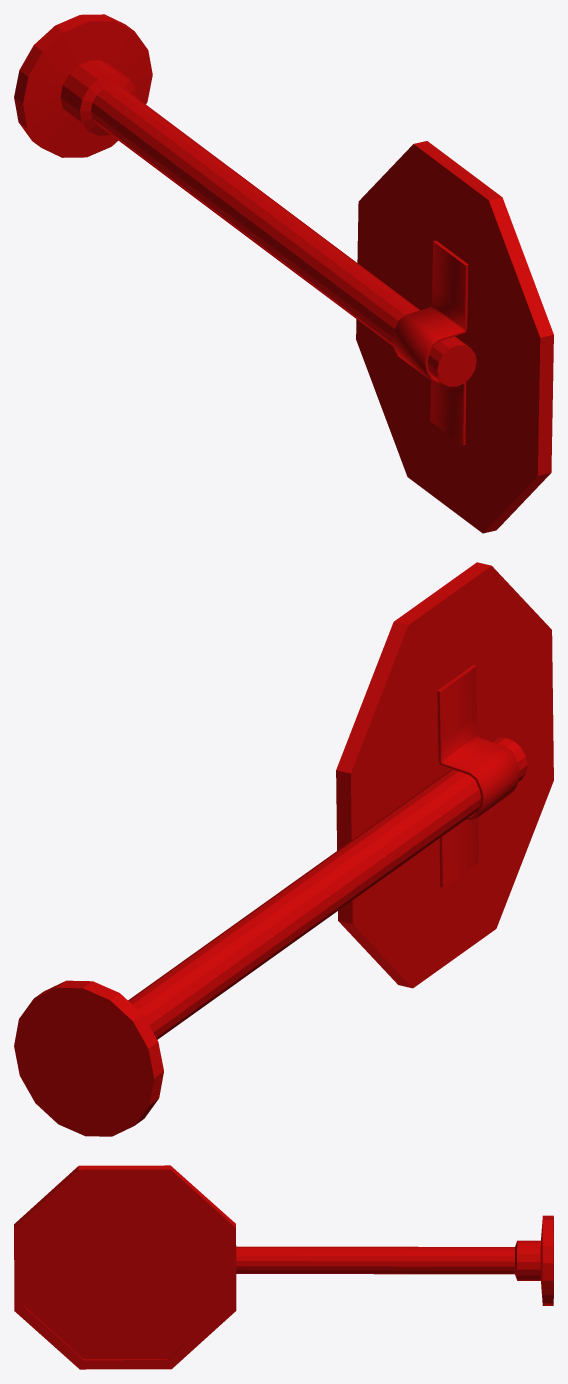
Rendered from dur_levhasi.obj.
The picture shows the model from 3 angles, top to bottom: view 1: azimuth 30°, elevation 25°; view 2: azimuth 150°, elevation 25°; view 3: azimuth 270°, elevation 25°; orthographic projection. The views are drawn at different scales.
Parts seen in each view (by area): view 1: Cylinder002.004; view 2: Cylinder002.004; view 3: Cylinder002.004.
Boxes of the visible parts, bbox=[...] form: Cylinder002.004: bbox=[14, 14, 553, 533]; Cylinder002.004: bbox=[14, 562, 553, 1136]; Cylinder002.004: bbox=[14, 1165, 553, 1369].
Bounding box in the file's own units: 0.1423 × 0.3499 × 0.849.
